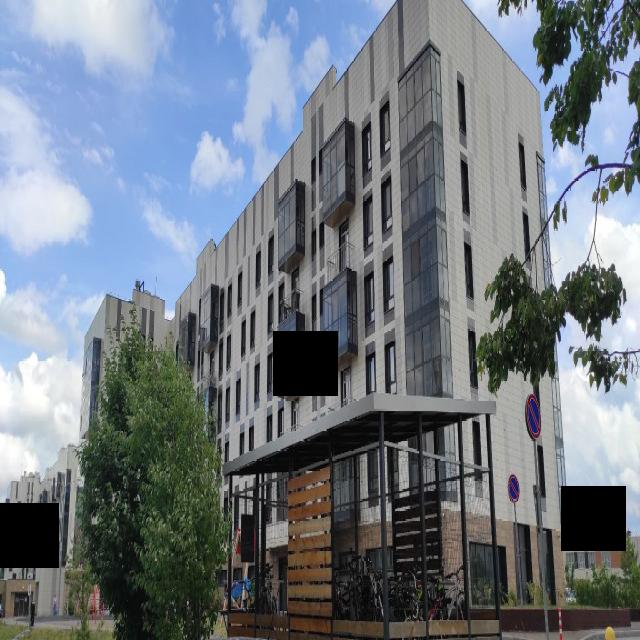Building: (73, 0, 548, 561)
